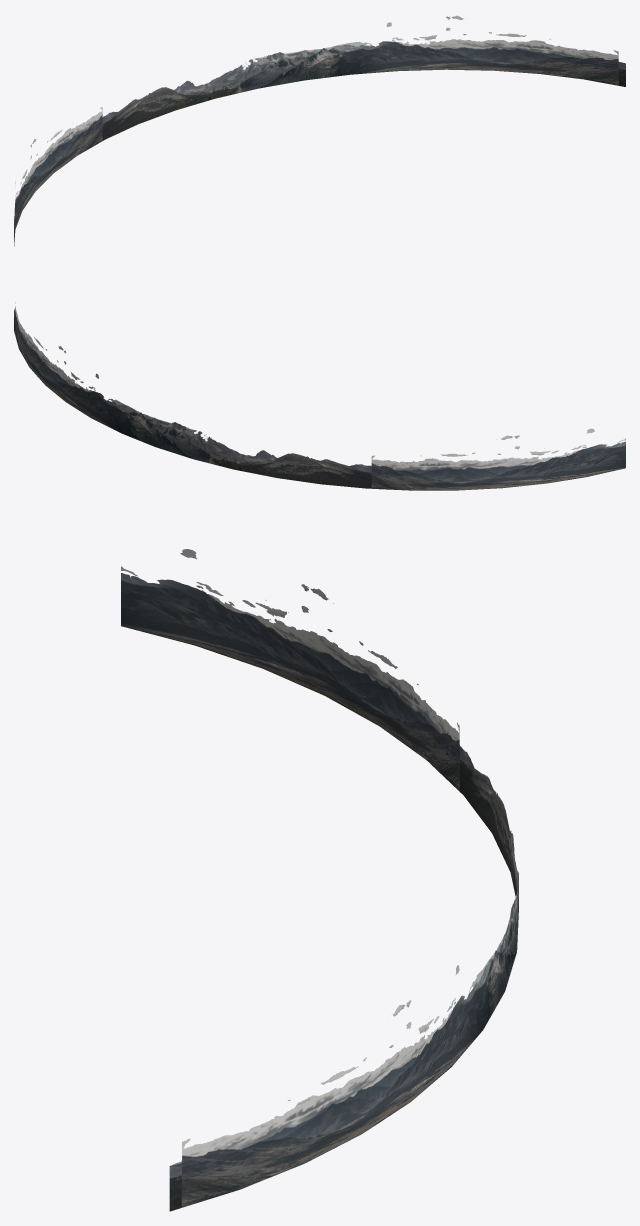
3 views of the same model, one above another, from view 1: azimuth 30°, elevation 25°; view 2: azimuth 150°, elevation 25°; view 3: azimuth 270°, elevation 25° (orthographic). The views are drawn at different scales.
Parts seen in each view (by area): view 1: BG; view 2: BG; view 3: BG.
Boxes of the visible parts, left/top/right/bottom form: BG: left=14, top=15, right=625, bottom=246; BG: left=14, top=302, right=625, bottom=490; BG: left=121, top=549, right=518, bottom=1211.
Size of the model in its own units: 849 by 72.33 by 244.
1 material, 1 textured.
